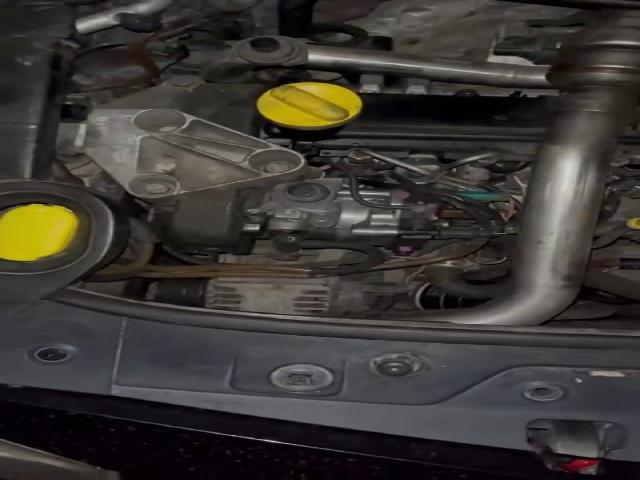alternator: (205, 269, 413, 318)
high_pressure_pump: (265, 188, 466, 256)
